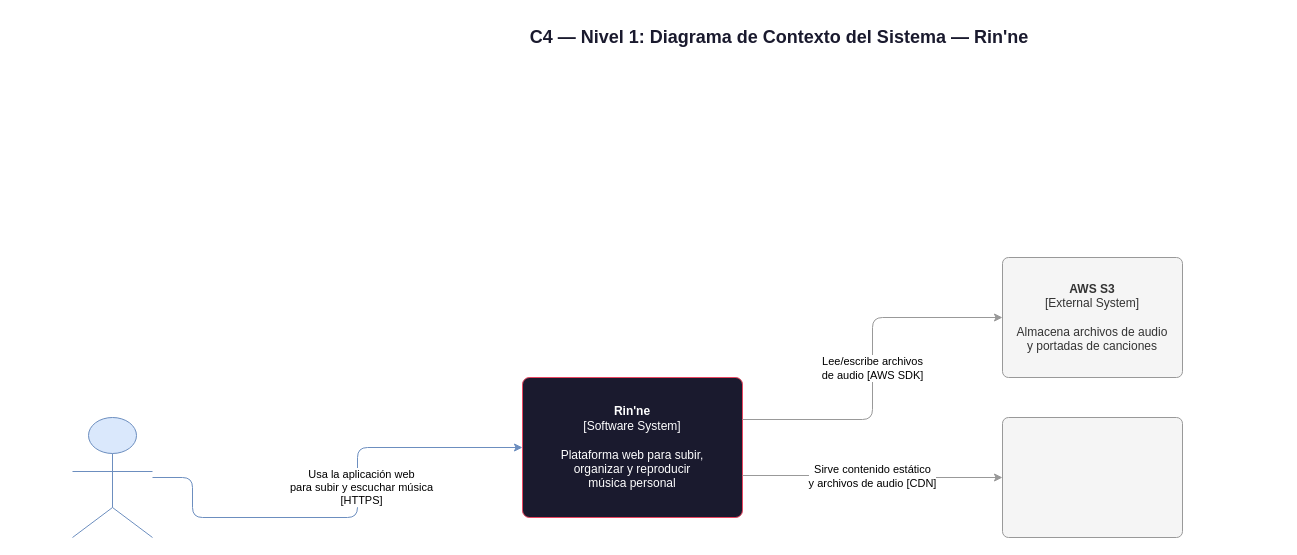
Image size: 1297x555. Some labels were removed from this diagram. The centre of each missing label's shape, as x and y in pixels:
"AWS CloudFront [External System] CDN para distribución de contenido estático" belongs at (1092,477).
"Usuario/Persona que sube y escucha su música personal" belongs at (112,477).
